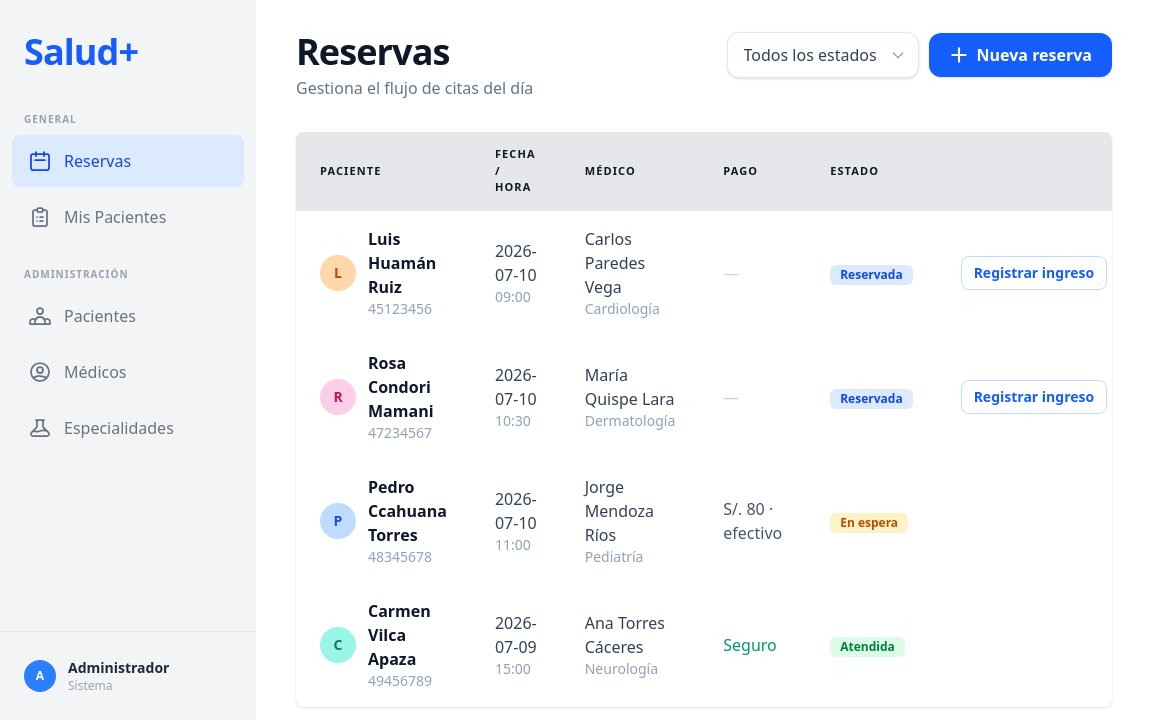
Admin · Gestión de citas / reservas (RF04, RF05, RF09) › registra el ingreso de una cita cubierta por seguro (RF04)
The image size is (1152, 720).
Click the button "Registrar ingreso" in the row of "10:30" at x=1035, y=397, box [961,380,1108,414]
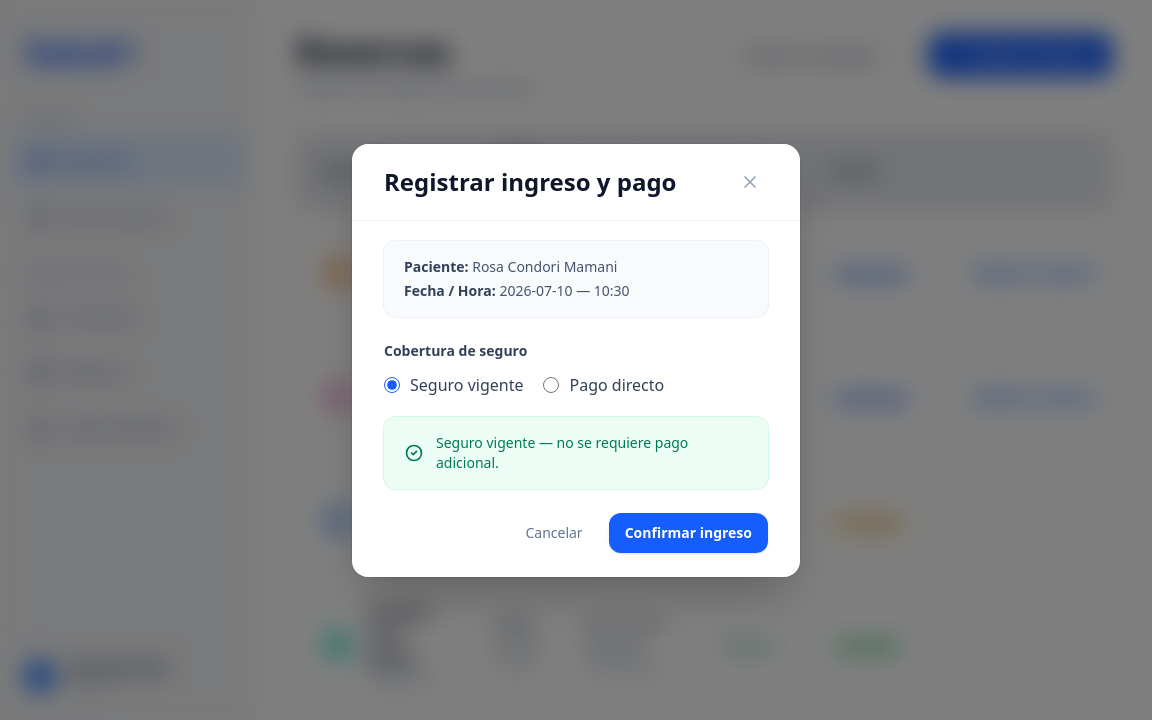
Click the button "Confirmar ingreso" at x=689, y=533, box [609,513,768,553]
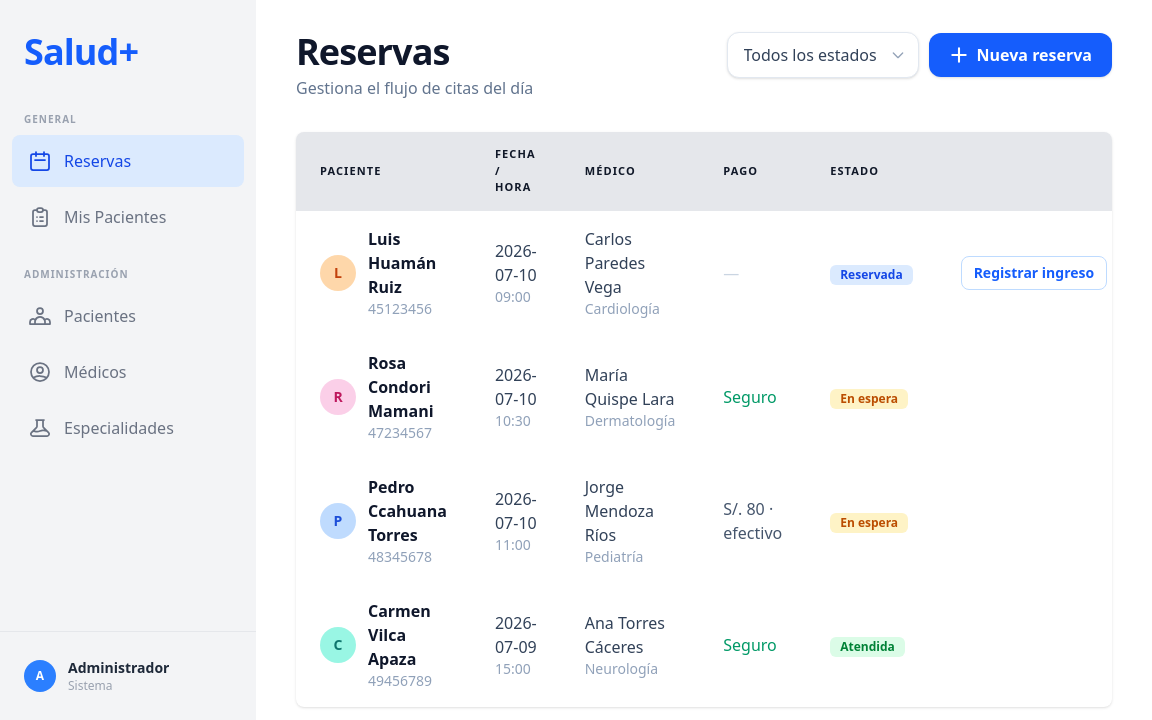
Now the text "Seguro" below "María Quispe Lara" is shown, box [723,386,777,408]
Now the text "En espera" below "María Quispe Lara" is shown, box [840,390,898,407]
